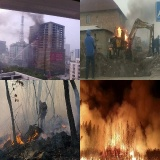fire: (106, 133, 137, 160), (1, 130, 24, 149), (27, 129, 38, 144), (117, 27, 127, 40), (80, 156, 101, 160), (57, 124, 67, 132), (33, 36, 39, 47)
